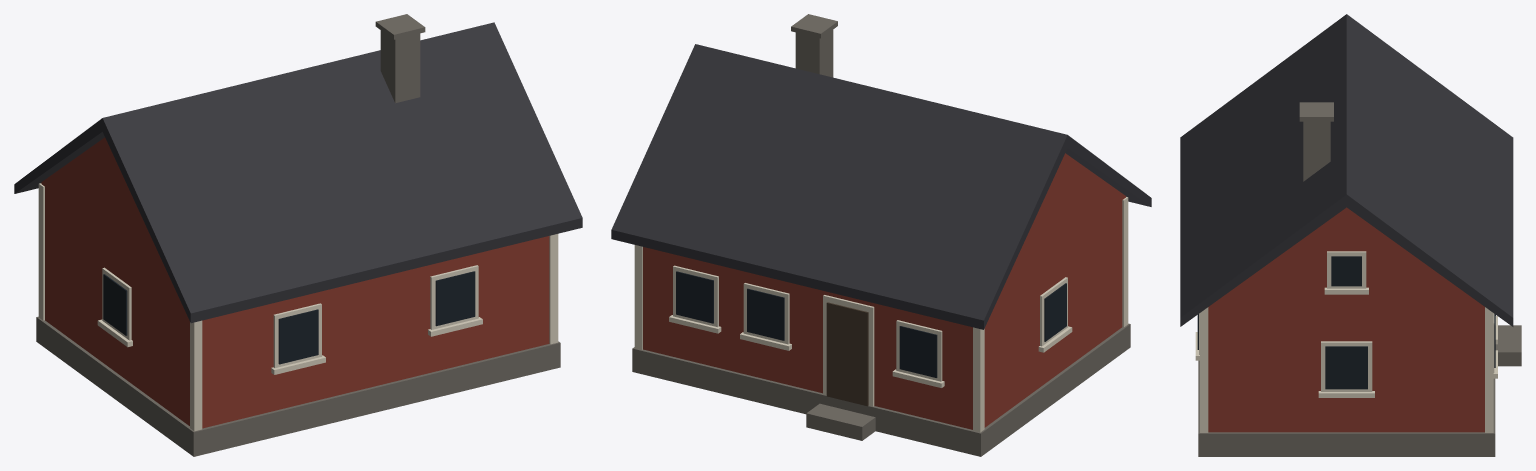
File: house_a.glb
3 renders of one model, left to right at view 1: azimuth 30°, elevation 25°; view 2: azimuth 150°, elevation 25°; view 3: azimuth 270°, elevation 25°, orthographic. The views are drawn at different scales.
Parts seen in each view (by area): view 1: house_a; view 2: house_a; view 3: house_a.
Boxes of the visible parts, <box> form: house_a: <box>14,14,582,456</box>; house_a: <box>611,14,1151,456</box>; house_a: <box>1180,14,1521,456</box>.
Bounding box in the file's own units: 5 × 3.91 × 4.
